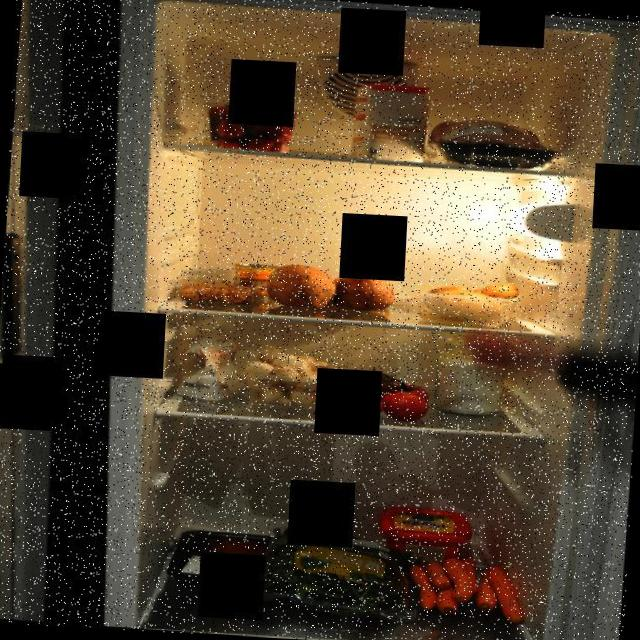Carne pollo: (415, 106, 559, 168)
Carne vacuno: (164, 528, 287, 598)
Champiñones: (234, 342, 333, 408)
Gambas/Langostinos: (172, 278, 264, 306)
Mantequilla: (374, 503, 476, 572)
Patata: (422, 275, 524, 322)
Tomate: (328, 360, 438, 428)
Zanahoria: (392, 545, 534, 625)
corn: (232, 261, 280, 303)
flour: (176, 325, 253, 416)
spinach: (242, 522, 420, 623)
strawberries: (195, 97, 302, 157)
sugar: (432, 329, 508, 418), (352, 80, 429, 162)
sweet_potato: (264, 262, 402, 314)
